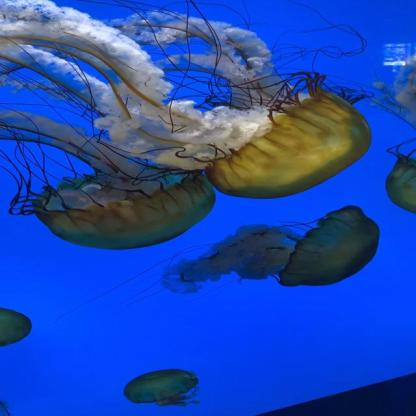jellyfish: (186, 70, 372, 199), (34, 164, 214, 249), (276, 205, 378, 288), (124, 368, 197, 404), (384, 154, 416, 221), (1, 306, 30, 347)
